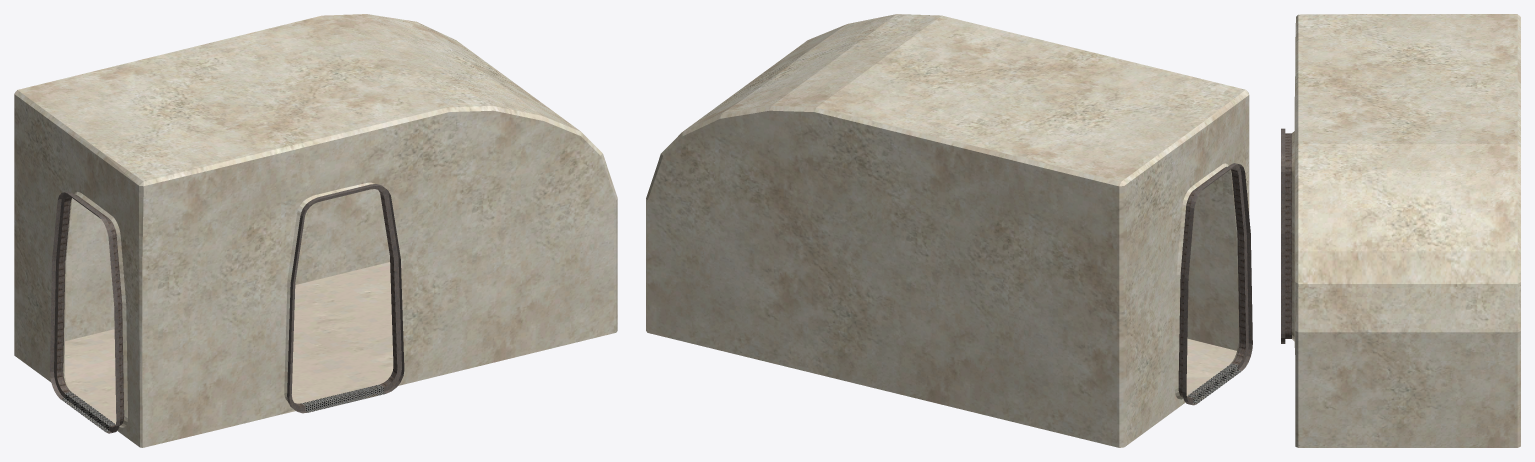
File: thm_tato_house_sml_s01_fp1_r1_foyer1_mesh_r1.fbx
3 views of the same model, side by side, from view 1: azimuth 30°, elevation 25°; view 2: azimuth 150°, elevation 25°; view 3: azimuth 270°, elevation 25° (orthographic). The views are drawn at different scales.
Parts seen in each view (by area): view 1: mesh_node; view 2: mesh_node; view 3: mesh_node.
Part boxes in pixels (x1=…): mesh_node: x1=14, y1=14, x2=617, y2=447; mesh_node: x1=646, y1=14, x2=1252, y2=447; mesh_node: x1=1281, y1=14, x2=1520, y2=447.
Bounding box in the file's own units: 7.77 × 4 × 3.76.
